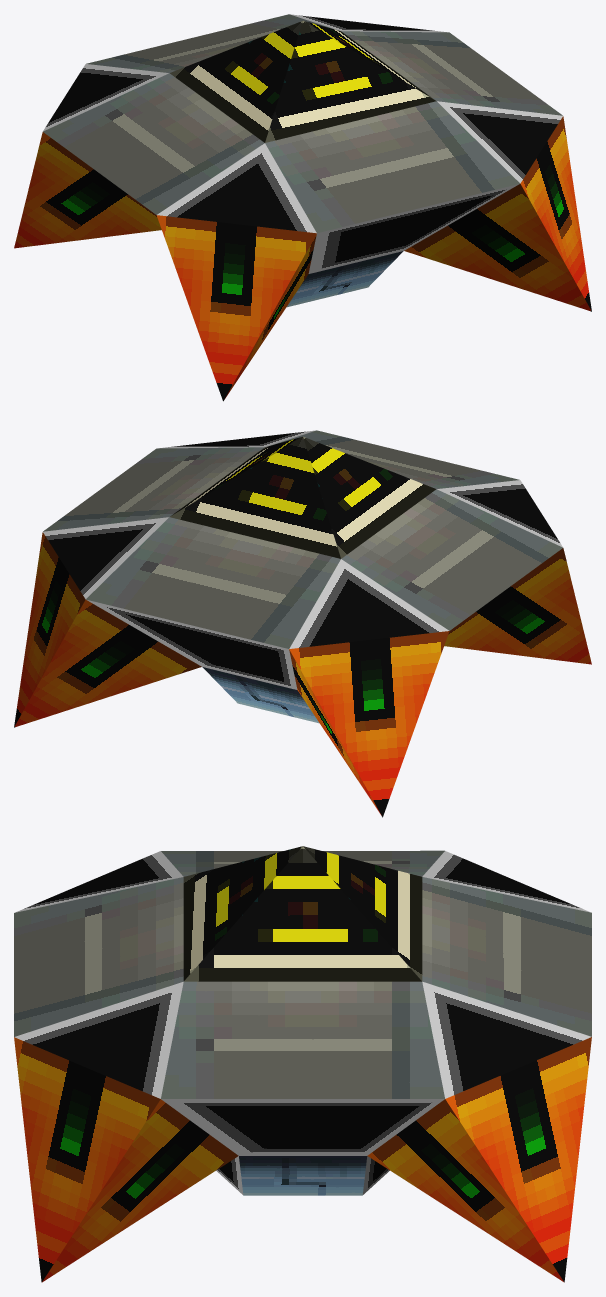
File: saucer.dae
The picture shows the model from 3 angles, top to bottom: view 1: azimuth 30°, elevation 25°; view 2: azimuth 150°, elevation 25°; view 3: azimuth 270°, elevation 25°; orthographic projection. The views are drawn at different scales.
Visible parts, largest first — view 1: silver, orange, black, cockpit, cyan; view 2: silver, orange, black, cockpit, cyan; view 3: silver, orange, black, cockpit, cyan.
Boxes of the visible parts, <box> form: silver: <box>43,14,562,233</box>; orange: <box>14,116,591,401</box>; black: <box>43,14,562,273</box>; cockpit: <box>170,20,436,142</box>; cyan: <box>287,251,403,307</box>; silver: <box>43,430,562,648</box>; orange: <box>14,532,591,817</box>; black: <box>43,430,562,689</box>; cockpit: <box>170,436,436,558</box>; cyan: <box>202,667,319,723</box>; silver: <box>14,850,591,1098</box>; orange: <box>14,1037,591,1282</box>; black: <box>14,851,591,1194</box>; cockpit: <box>183,846,422,981</box>; cyan: <box>239,1156,367,1195</box>.
Bounding box in the file's own units: 128 × 78.02 × 126.
Materials: 6 (6 with a texture image).
